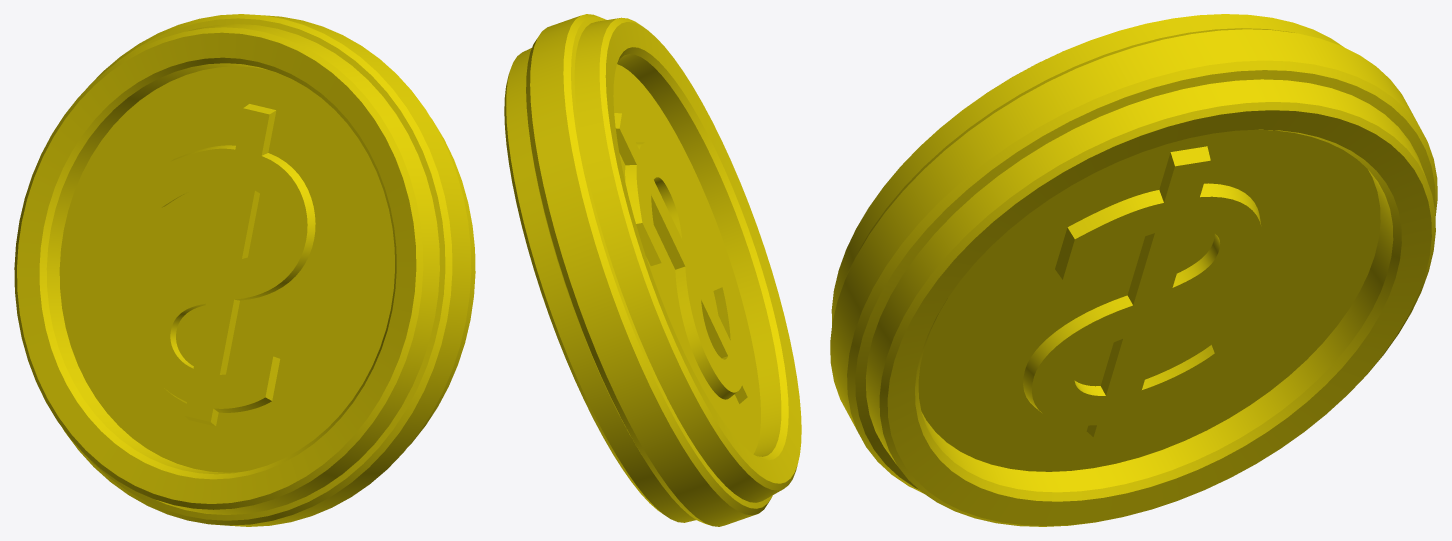
Rendered from Coin.fbx.
3 views of the same model, side by side, from view 1: azimuth 30°, elevation 25°; view 2: azimuth 150°, elevation 25°; view 3: azimuth 270°, elevation 25° (orthographic). The views are drawn at different scales.
Visible parts, largest first — view 1: Coin; view 2: Coin; view 3: Coin.
Boxes of the visible parts, x1=… form: Coin: x1=14, y1=14, x2=475, y2=526; Coin: x1=504, y1=14, x2=801, y2=526; Coin: x1=830, y1=14, x2=1437, y2=526.
Size of the model in its own units: 1.45 by 2.01 by 2.02.
